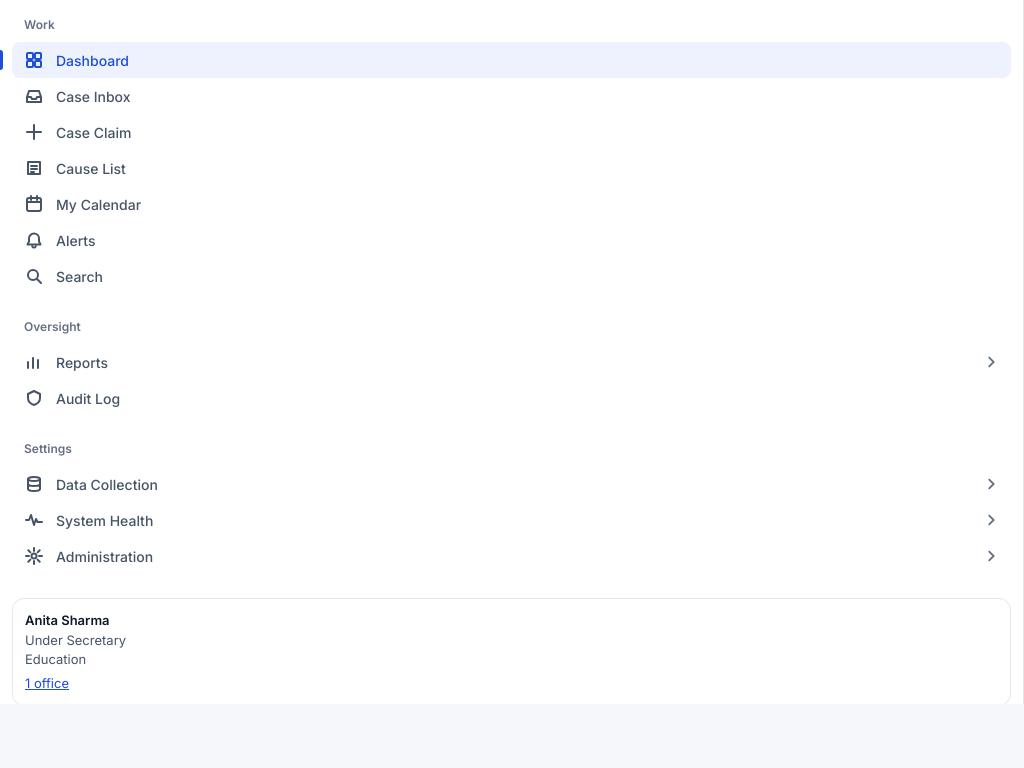
Scenario: the one-level side menu (design portal-ui-polish-2, decisions 14-19) › a closed parent goes to its landing page; an open one closes without navigating
This screenshot has width=1024, height=768.
Click the list item "Data Collection" at x=107, y=484, box [25,475,999,493]
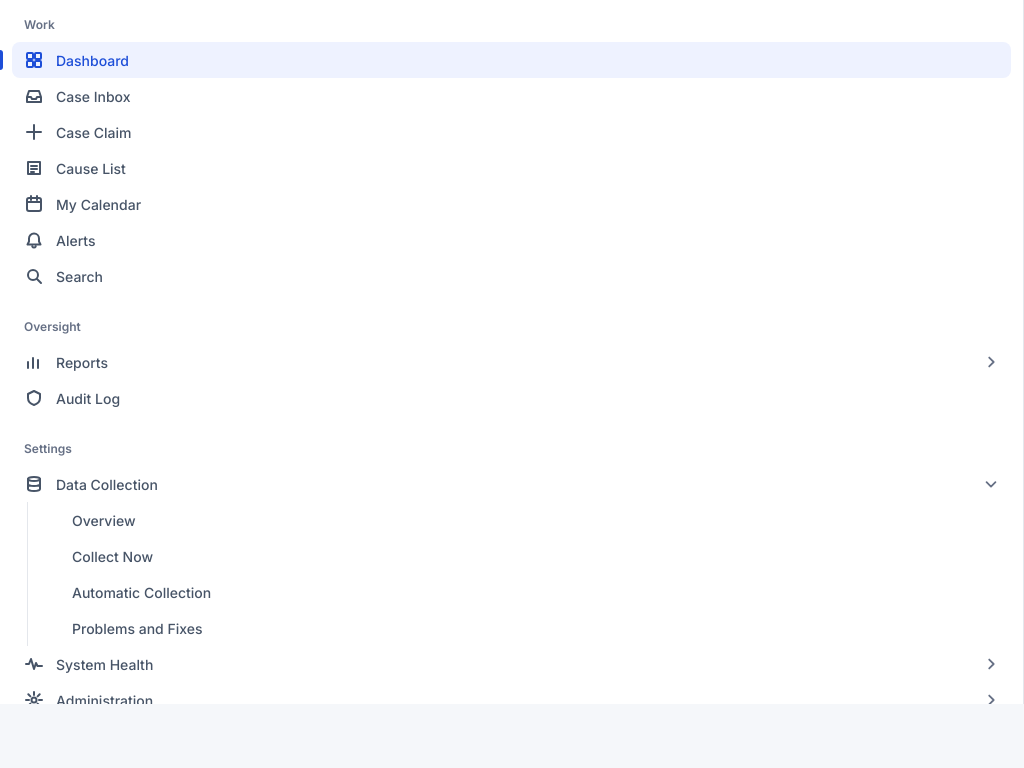
Expected: the list item "Data Collection" is expanded
Click the list item "Data Collection" at x=107, y=484, box [25,475,999,493]
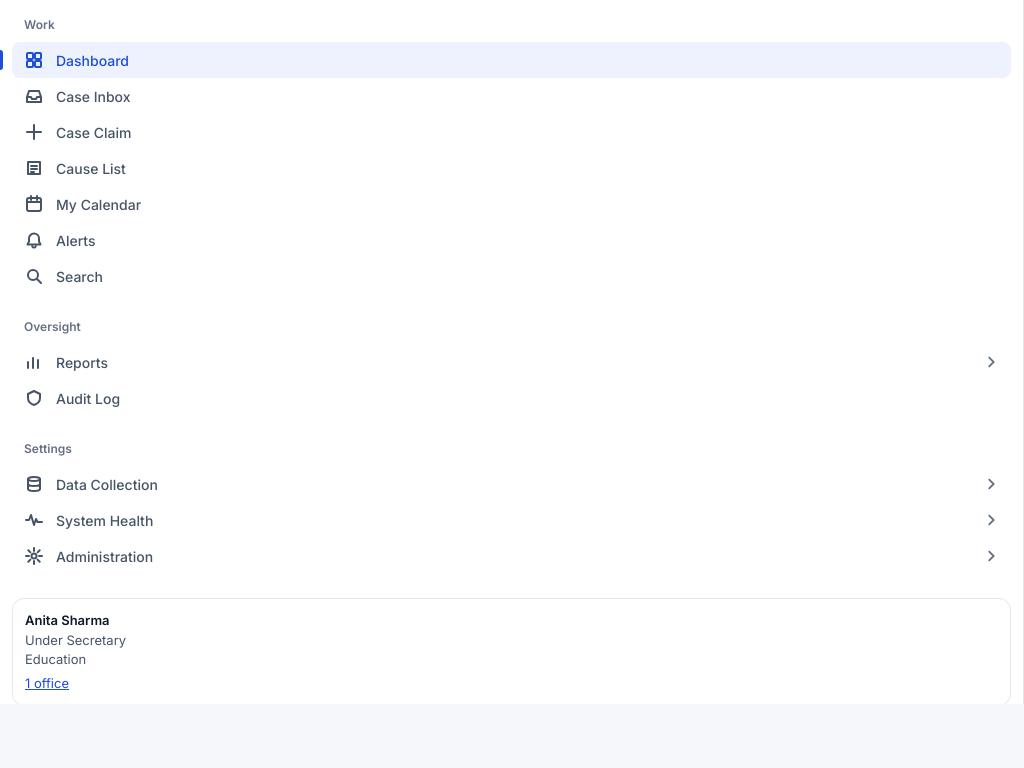
Expected: the list item "Data Collection" is collapsed, [25,475,999,493]
